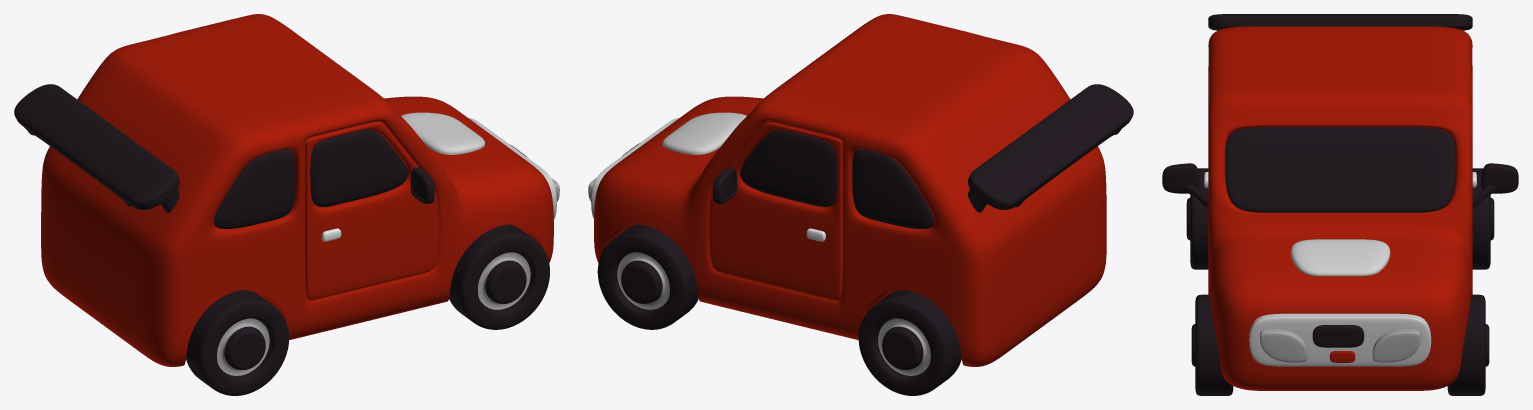
The model's file is sport-car-3d-icon-1003947936359.glb.
3 views of the same model, side by side, from view 1: azimuth 30°, elevation 25°; view 2: azimuth 150°, elevation 25°; view 3: azimuth 270°, elevation 25° (orthographic).
Visible parts, largest first — view 1: Body, Tires, Windows, Spoiler, Hood, Rims, Mirrors, Front Panel; view 2: Body, Tires, Windows, Spoiler, Hood, Rims, Mirrors, Front Panel; view 3: Body, Windows, Tires, Front Panel, Spoiler, Hood, Lamp, Mirrors, Grill.
Part boxes in pixels (x1=…): Body: x1=41, y1=14, x2=553, y2=366; Tires: x1=186, y1=224, x2=549, y2=395; Windows: x1=214, y1=129, x2=407, y2=228; Spoiler: x1=14, y1=84, x2=179, y2=212; Hood: x1=401, y1=112, x2=484, y2=154; Rims: x1=217, y1=252, x2=530, y2=375; Mirrors: x1=410, y1=167, x2=434, y2=203; Front Panel: x1=469, y1=118, x2=556, y2=219; Body: x1=594, y1=14, x2=1106, y2=366; Tires: x1=597, y1=224, x2=961, y2=395; Windows: x1=740, y1=129, x2=933, y2=228; Spoiler: x1=968, y1=84, x2=1133, y2=212; Hood: x1=662, y1=112, x2=746, y2=154; Rims: x1=617, y1=252, x2=930, y2=375; Mirrors: x1=713, y1=167, x2=737, y2=203; Front Panel: x1=591, y1=118, x2=678, y2=218; Body: x1=1208, y1=26, x2=1472, y2=390; Windows: x1=1225, y1=127, x2=1455, y2=212; Tires: x1=1186, y1=168, x2=1494, y2=395; Front Panel: x1=1249, y1=313, x2=1431, y2=366; Spoiler: x1=1208, y1=14, x2=1472, y2=30; Hood: x1=1290, y1=239, x2=1390, y2=276; Lamp: x1=1260, y1=329, x2=1420, y2=362; Mirrors: x1=1162, y1=163, x2=1518, y2=207; Grill: x1=1312, y1=325, x2=1364, y2=347.
Bounding box in the file's own units: 0.8878 × 0.4723 × 0.6258.
